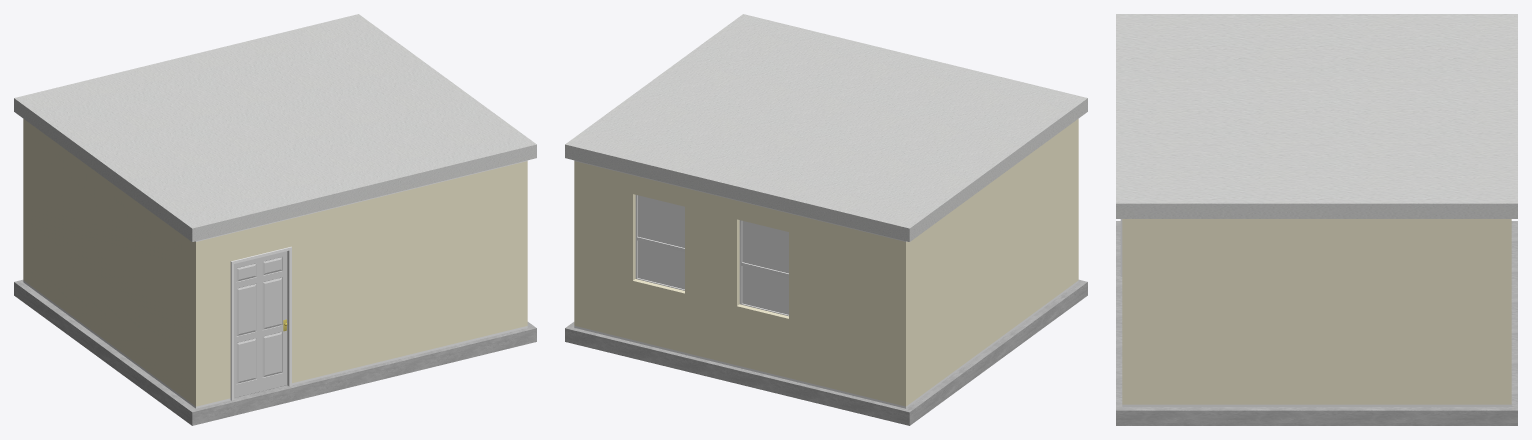
The model's file is FloorPlan206_physics.fbx.
3 renders of one model, left to right at view 1: azimuth 30°, elevation 25°; view 2: azimuth 150°, elevation 25°; view 3: azimuth 270°, elevation 25°, orthographic. The views are drawn at different scales.
Visible parts, largest first — view 1: FP206:StandardWallSize, FP206:Ceiling, FP206:Floor, FP206:StandardDoor1, FP206:StandardDoorFrame1; view 2: FP206:StandardWallSize, FP206:Ceiling, FP206:Floor, FP206:polySurface2, FP206:polySurface1, FP206:StandardWindow3 (2*, FP206:StandardWindow3; view 3: FP206:Ceiling, FP206:StandardWallSize, FP206:Floor.
Part boxes in pixels (x1,y1,x2,y2): FP206:StandardWallSize: [23, 119, 527, 408]; FP206:Ceiling: [14, 14, 536, 241]; FP206:Floor: [14, 279, 536, 425]; FP206:StandardDoor1: [234, 251, 287, 397]; FP206:StandardDoorFrame1: [230, 246, 291, 400]; FP206:StandardWallSize: [574, 119, 1078, 408]; FP206:Ceiling: [565, 14, 1087, 241]; FP206:Floor: [565, 279, 1087, 425]; FP206:polySurface2: [637, 195, 684, 289]; FP206:polySurface1: [742, 221, 788, 314]; FP206:StandardWindow3 (2*: [739, 220, 788, 316]; FP206:StandardWindow3: [635, 195, 684, 290]; FP206:Ceiling: [1116, 14, 1517, 218]; FP206:StandardWallSize: [1122, 219, 1511, 406]; FP206:Floor: [1116, 221, 1517, 425].
Size of the model in its own units: 530 by 290 by 475.
